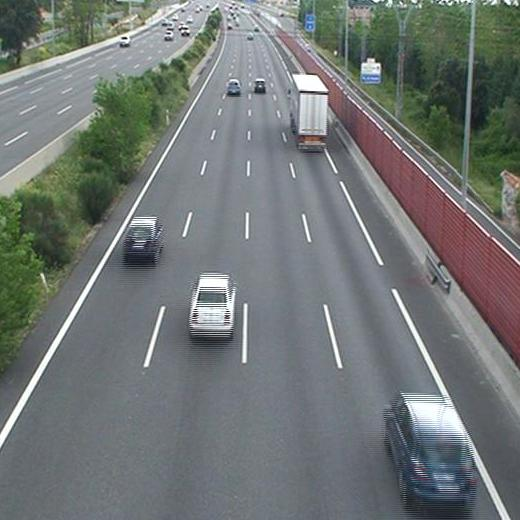car: (384, 396, 475, 507), (190, 275, 236, 335), (124, 218, 163, 256), (227, 80, 241, 94), (253, 79, 266, 92)
truck: (290, 74, 327, 150)
